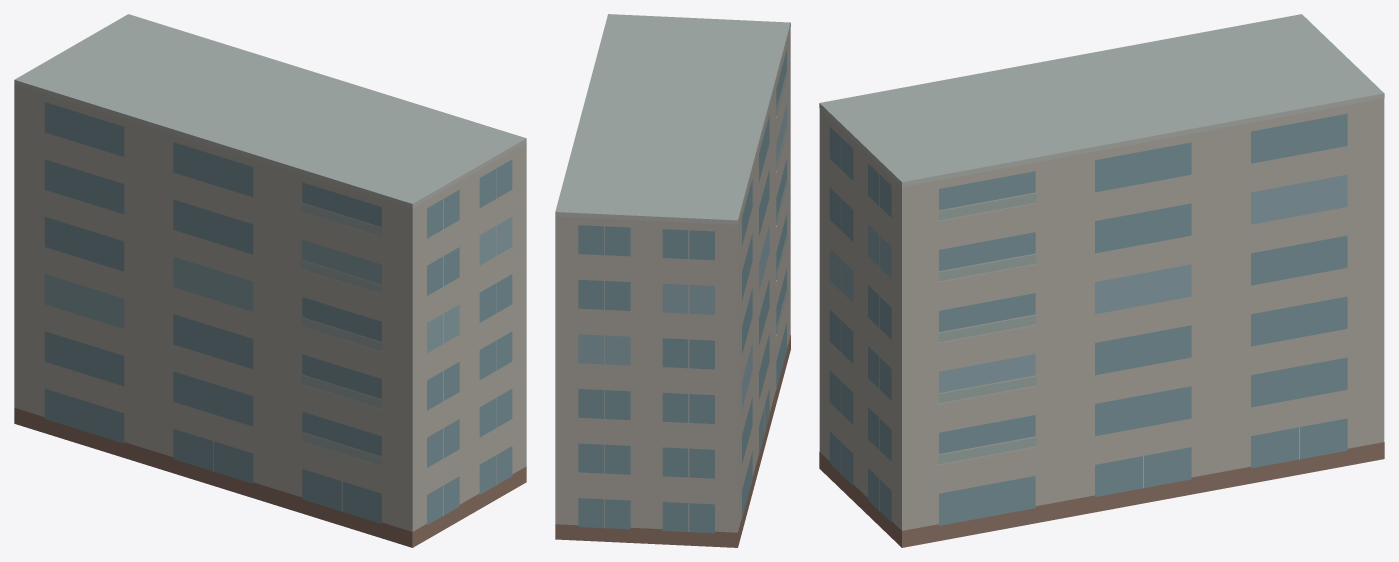
File: survey-upis-33001527.glb
3 views of the same model, side by side, from view 1: azimuth 30°, elevation 25°; view 2: azimuth 150°, elevation 25°; view 3: azimuth 270°, elevation 25° (orthographic). The views are drawn at different scales.
Visible parts, largest first — view 1: survey-upis-33001527.tmp; view 2: survey-upis-33001527.tmp; view 3: survey-upis-33001527.tmp.
Part boxes in pixels (left/top/right/bottom): survey-upis-33001527.tmp: left=14, top=14, right=526, bottom=547; survey-upis-33001527.tmp: left=555, top=14, right=790, bottom=547; survey-upis-33001527.tmp: left=819, top=14, right=1384, bottom=547.
Bounding box in the file's own units: 18.07 × 18.3 × 25.64.
